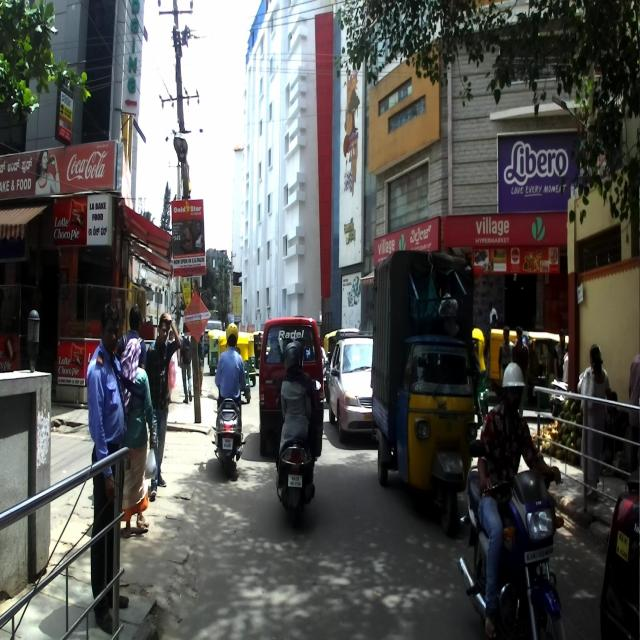Car: (259, 316, 324, 454)
autorickshaw: (371, 251, 482, 538)
motorcycle_TVS: (458, 439, 567, 638)
scooter: (272, 377, 325, 527), (212, 382, 248, 477)
